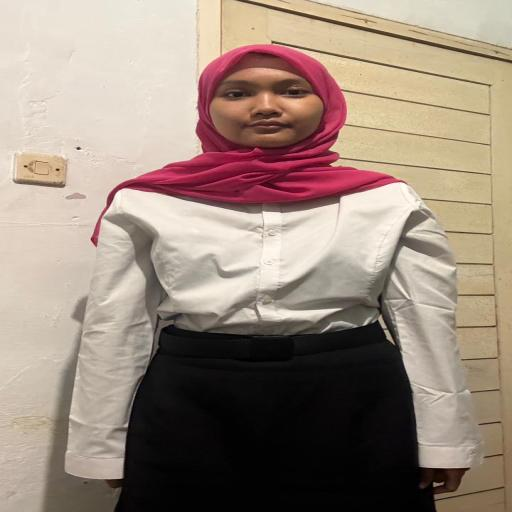kemeja_benar: (94, 172, 469, 332)
kerudung_benar: (143, 38, 405, 207)
rok_benar: (126, 358, 428, 512)
sabuk_ada: (140, 329, 400, 365)
